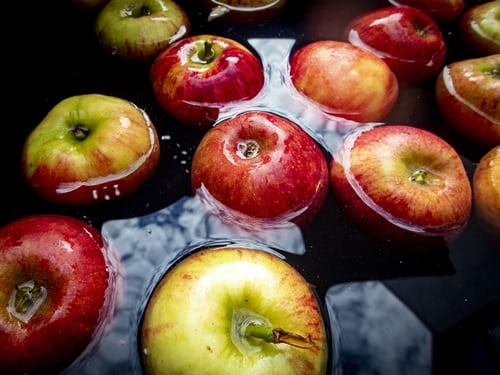apple: (137, 248, 328, 375), (1, 212, 120, 372), (186, 111, 333, 227), (330, 123, 474, 237), (22, 92, 158, 210), (155, 35, 269, 119), (284, 39, 400, 121), (341, 8, 447, 73), (97, 2, 192, 61)
